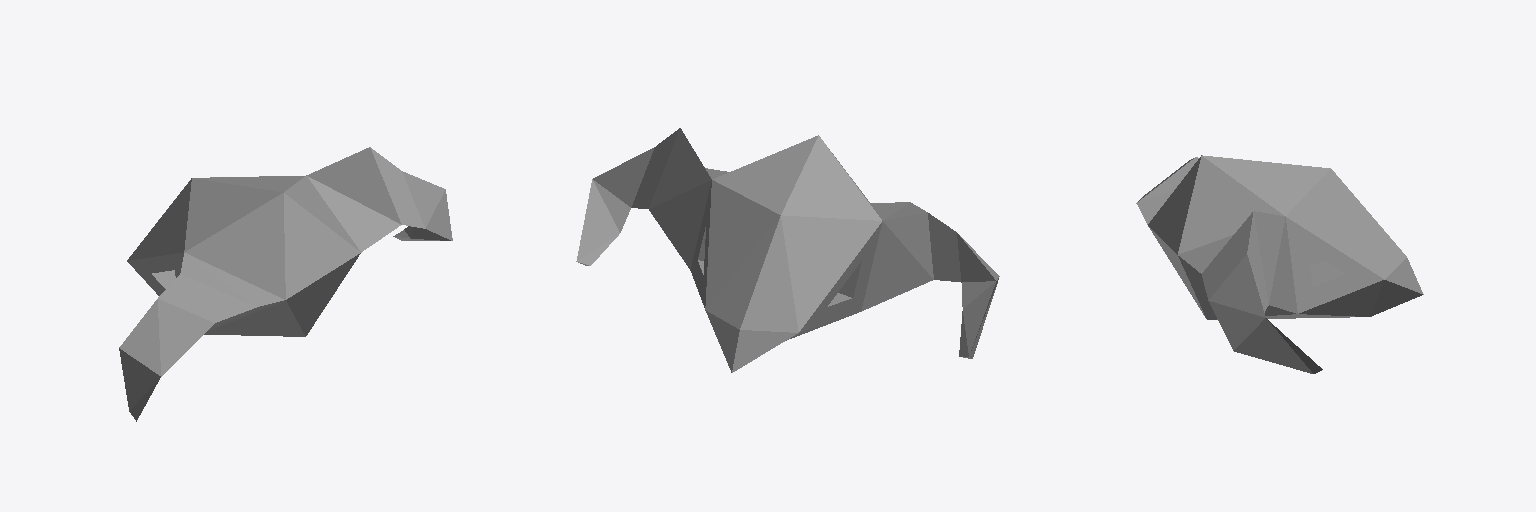
The model's file is Skull.obj.
The picture shows the model from 3 angles: view 1: azimuth 30°, elevation 25°; view 2: azimuth 150°, elevation 25°; view 3: azimuth 270°, elevation 25°; orthographic projection.
Visible parts, largest first — view 1: Icosphere_Icosphere.006; view 2: Icosphere_Icosphere.006; view 3: Icosphere_Icosphere.006.
Boxes of the visible parts, x1,y1,x2,y2 form: Icosphere_Icosphere.006: [119, 147, 452, 421]; Icosphere_Icosphere.006: [576, 128, 999, 372]; Icosphere_Icosphere.006: [1136, 155, 1423, 373].
Size of the model in its own units: 1.99 by 0.9893 by 1.36.